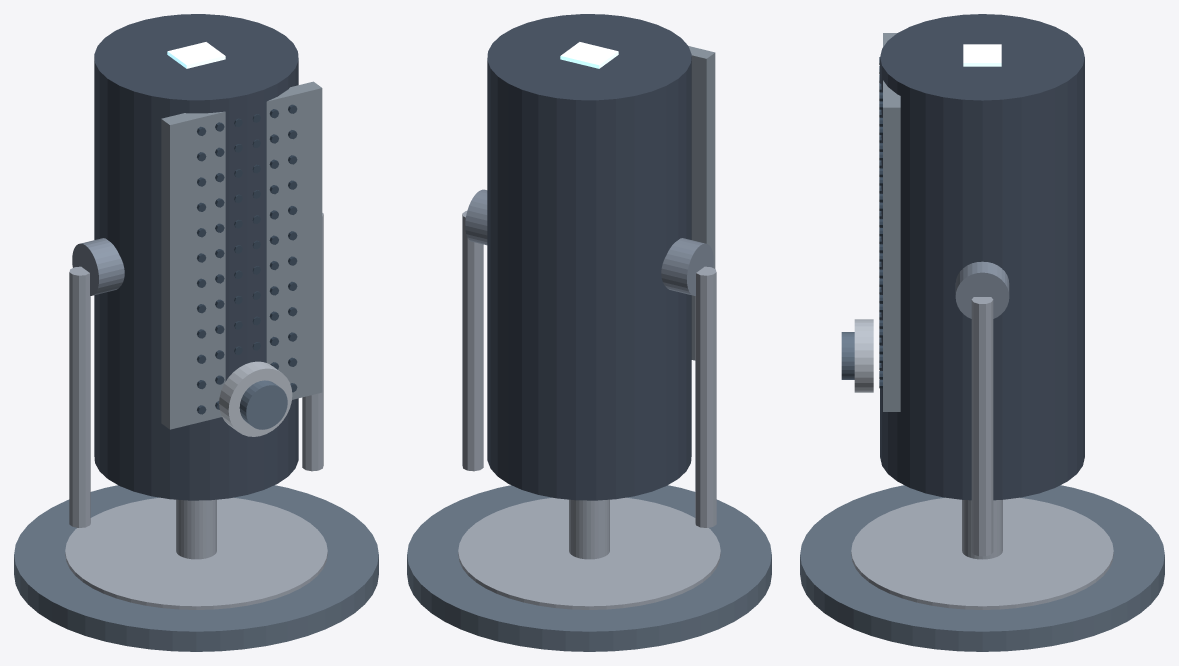
The model's file is elgato-wave3.glb.
The picture shows the model from 3 angles, left to right: view 1: azimuth 30°, elevation 25°; view 2: azimuth 150°, elevation 25°; view 3: azimuth 270°, elevation 25°; orthographic projection.
Visible parts, largest first — view 1: mic_core-0, front_grille-1, desk_base-82, desk_base_top-83, yoke-79, front_gain_knob-74, stand_pole-81, side_hinge_L-77, yoke-80, gain_dial_center-75, mute_button-76; view 2: mic_core-0, desk_base-82, desk_base_top-83, yoke-79, front_grille-1, yoke-80, stand_pole-81, side_hinge_L-77, side_hinge_R-78, mute_button-76; view 3: mic_core-0, desk_base-82, desk_base_top-83, yoke-80, front_grille-1, side_hinge_R-78, front_gain_knob-74, stand_pole-81, mute_button-76, gain_dial_center-75.
Boxes of the visible parts, left/top/right/bottom form: mic_core-0: left=94, top=14, right=298, bottom=500; front_grille-1: left=161, top=81, right=322, bottom=429; desk_base-82: left=14, top=485, right=378, bottom=651; desk_base_top-83: left=65, top=497, right=327, bottom=609; yoke-79: left=69, top=266, right=90, bottom=527; front_gain_knob-74: left=219, top=361, right=292, bottom=436; stand_pole-81: left=176, top=499, right=216, bottom=559; side_hinge_L-77: left=72, top=238, right=124, bottom=295; yoke-80: left=302, top=213, right=323, bottom=471; gain_dial_center-75: left=239, top=380, right=287, bottom=429; mute_button-76: left=167, top=42, right=225, bottom=68; mic_core-0: left=487, top=14, right=691, bottom=500; desk_base-82: left=407, top=485, right=771, bottom=651; desk_base_top-83: left=458, top=497, right=720, bottom=609; yoke-79: left=695, top=266, right=716, bottom=527; front_grille-1: left=688, top=46, right=715, bottom=360; yoke-80: left=462, top=211, right=483, bottom=471; stand_pole-81: left=569, top=499, right=609, bottom=559; side_hinge_L-77: left=661, top=238, right=713, bottom=295; side_hinge_R-78: left=465, top=189, right=487, bottom=245; mute_button-76: left=560, top=42, right=618, bottom=68; mic_core-0: left=880, top=14, right=1084, bottom=500; desk_base-82: left=800, top=485, right=1164, bottom=651; desk_base_top-83: left=851, top=497, right=1113, bottom=609; yoke-80: left=971, top=297, right=993, bottom=556; front_grille-1: left=883, top=33, right=900, bottom=411; side_hinge_R-78: left=955, top=261, right=1009, bottom=318; front_gain_knob-74: left=854, top=319, right=873, bottom=392; stand_pole-81: left=962, top=500, right=1002, bottom=559; mute_button-76: left=963, top=44, right=1001, bottom=66; gain_dial_center-75: left=841, top=332, right=854, bottom=379.
Bounding box in the file's own units: 1.14 × 1.8 × 1.14.
